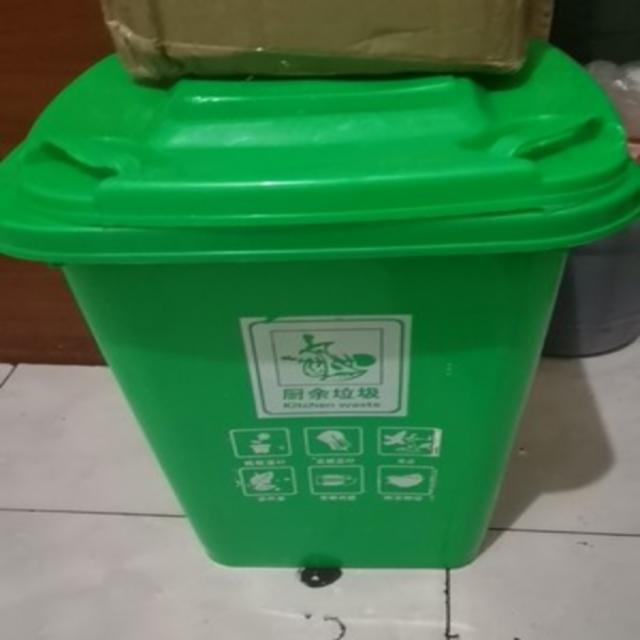ash bin: (4, 39, 636, 566)
